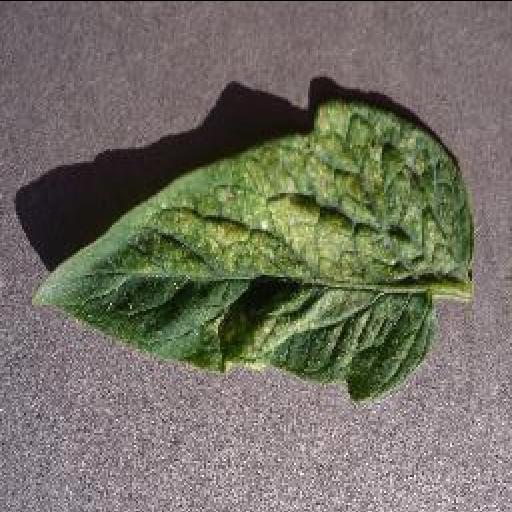disease_tomato: (26, 102, 474, 402)
